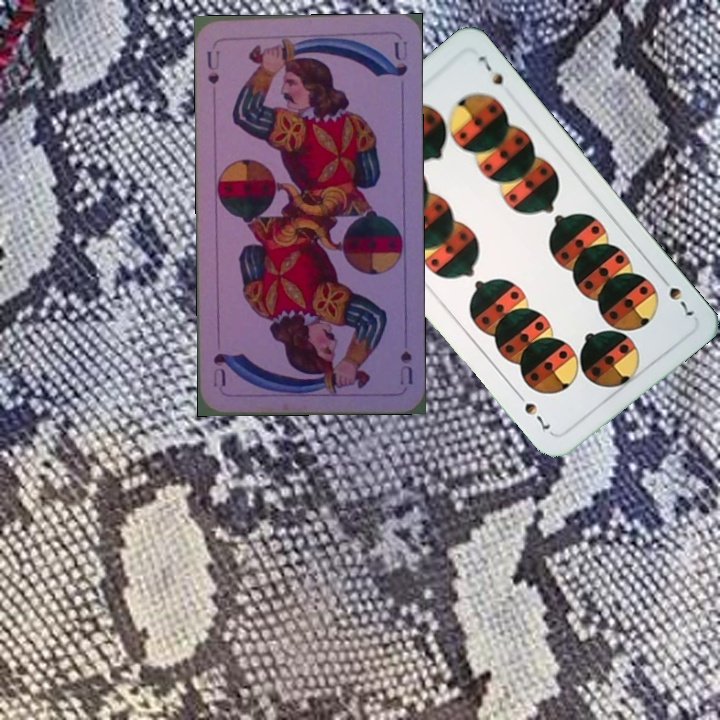S7: (655, 270, 697, 319)
SU: (396, 347, 415, 388), (203, 46, 222, 86)
